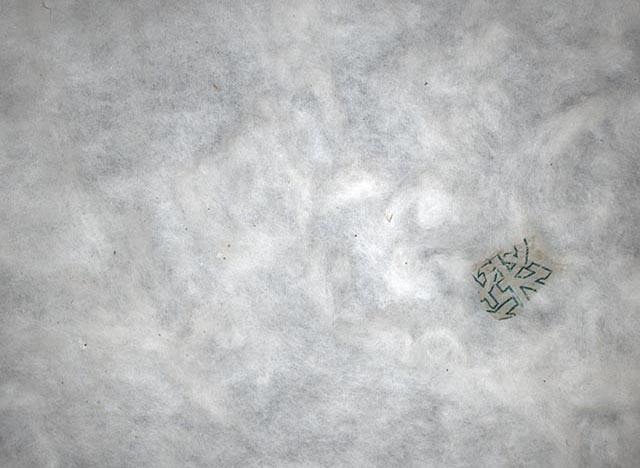plastic film: (468, 237, 560, 319)
